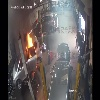fire: (22, 32, 39, 75)
